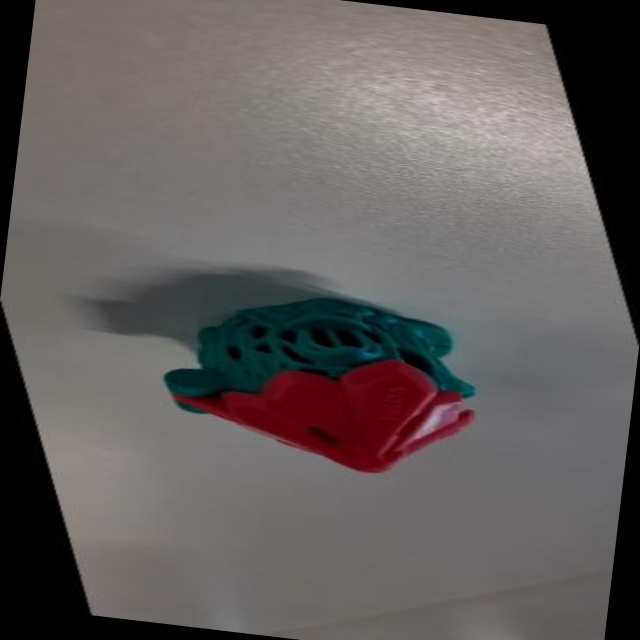House: (106, 252, 549, 518)
